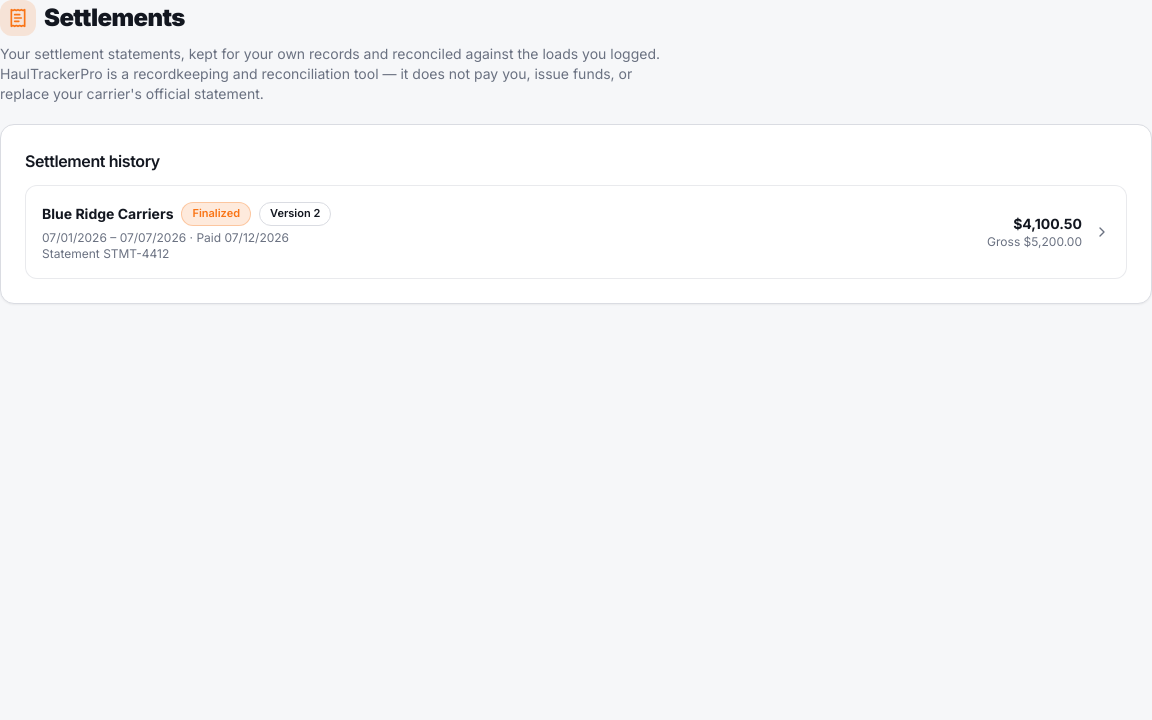
Test case: G. difference is derived only from a non-null expected snapshot › renders Difference only for the line carrying an expected snapshot
Step 1. Click the button with test id "settlement-card" → click(108, 213), box left=25, top=185, right=1127, bottom=279
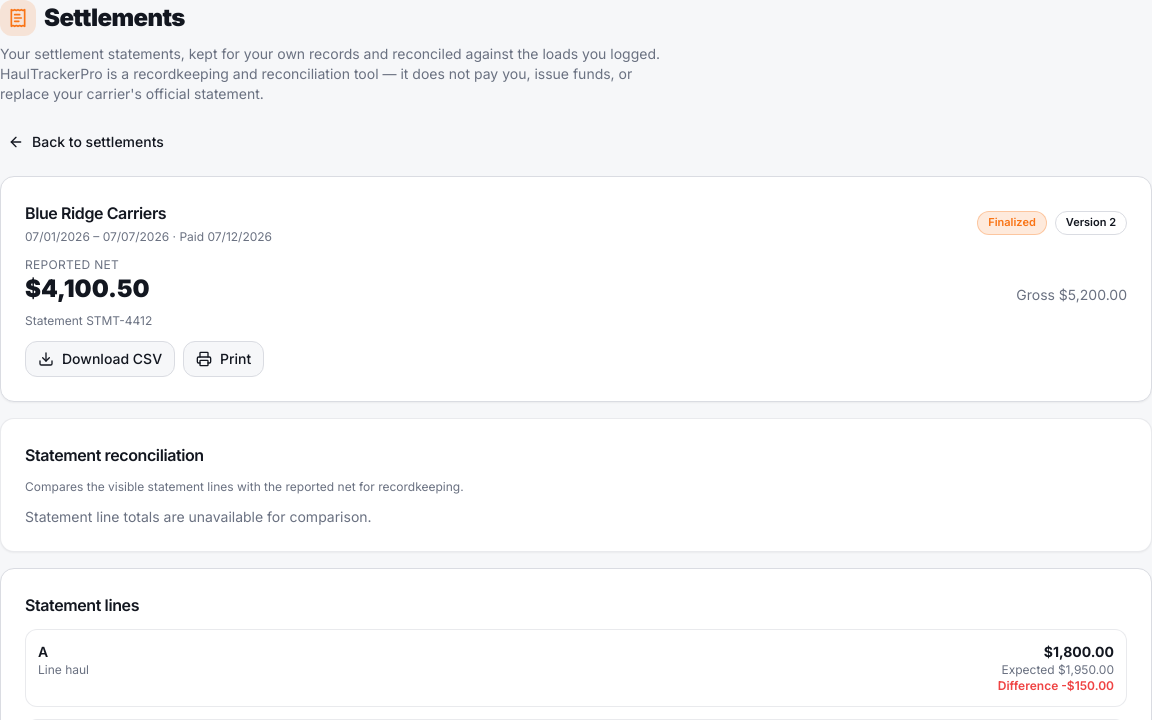
Now the number of elements with test id "settlement-item-difference" is 1, box left=998, top=678, right=1114, bottom=694
Now the text with test id "settlement-item-difference" shows "-$150.00", box left=1061, top=678, right=1114, bottom=693
